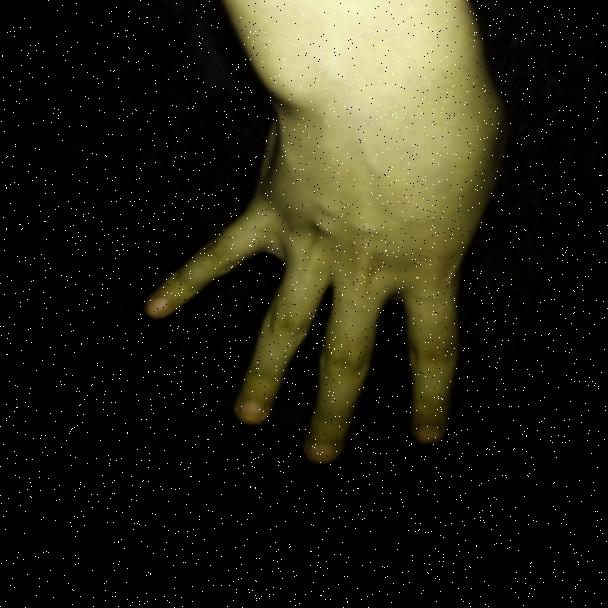four: (88, 1, 577, 548)
